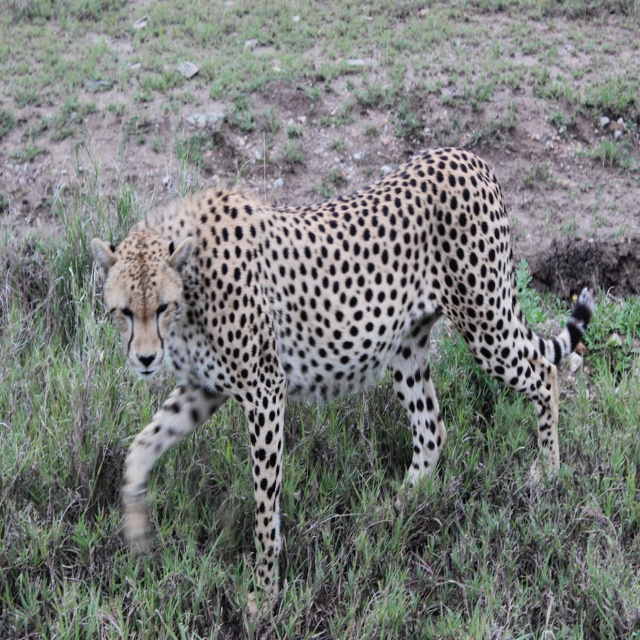Cheetah: (91, 143, 597, 633)
